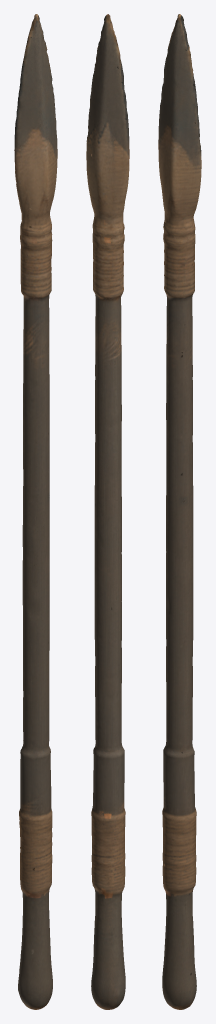
Rendered from Wood Spear.fbx.
3 views of the same model, side by side, from view 1: azimuth 30°, elevation 25°; view 2: azimuth 150°, elevation 25°; view 3: azimuth 330°, elevation 25° (orthographic).
Visible parts, largest first — view 1: Mesh_0; view 2: Mesh_0; view 3: Mesh_0.
Boxes of the visible parts, x1,y1,x2,y2 form: Mesh_0: (14, 14, 57, 1009); Mesh_0: (86, 14, 129, 1009); Mesh_0: (158, 14, 201, 1009).
Size of the model in its own units: 8.99 by 200 by 6.46.
1 material, 1 textured.
